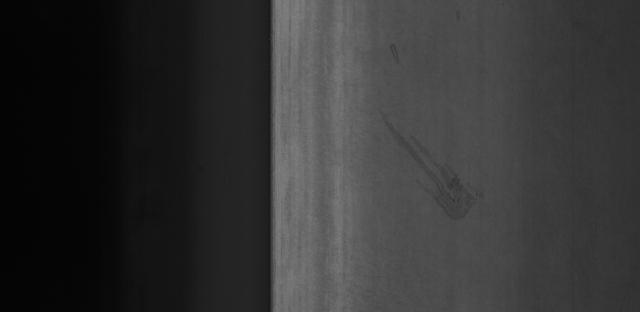water_spot: (372, 102, 497, 232), (382, 38, 404, 66), (449, 8, 469, 26)
